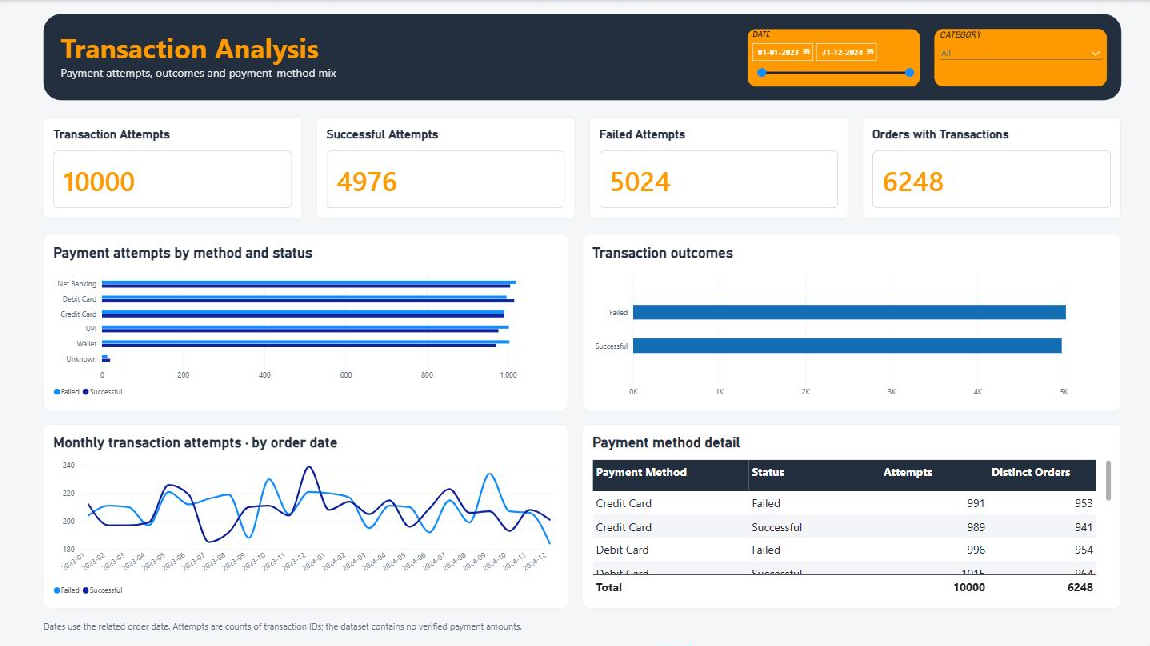

The page's visual inventory and layout, read from the dashboard file:
{"tool":"powerbi","page":{"name":"Transaction Analysis","canvas":[1920,1080],"ordinal":4},"visuals":[{"type":"textbox","box":[72,24,1800,144],"z":0},{"type":"cardVisual","title":"Failed Attempts","fields":{"Data":["CountNonNull(Fact_Transactions.Tr_ID)"]},"box":[984,196,432,170],"z":1000},{"type":"textbox","box":[72,1036,1800,32],"z":2000},{"type":"slicer","fields":{"Values":["Dim_Date.Date"]},"box":[1248,48,288,96],"z":3000},{"type":"cardVisual","title":"Successful Attempts","fields":{"Data":["CountNonNull(Fact_Transactions.Tr_ID)"]},"box":[528,196,432,170],"z":4000},{"type":"lineChart","title":"Monthly transaction attempts · by order date","fields":{"Category":["Dim_Date.Year-Month"],"Series":["Fact_Transactions.Tran_Status"],"Y":["CountNonNull(Fact_Transactions.Tr_ID)"]},"box":[72,708,876,308],"z":5000},{"type":"clusteredBarChart","title":"Transaction outcomes","fields":{"Category":["Fact_Transactions.Tran_Status"],"Y":["CountNonNull(Fact_Transactions.Tr_ID)"]},"box":[972,390,900,294],"z":6000},{"type":"tableEx","title":"Payment method detail","fields":{"Values":["Fact_Transactions.Transaction_Mode","Fact_Transactions.Tran_Status","CountNonNull(Fact_Transactions.Tr_ID)","Count(Fact_Transactions.Or_ID)"]},"box":[972,708,900,308],"z":7000},{"type":"slicer","fields":{"Values":["Dim_Product.Category"]},"box":[1560,48,288,96],"z":8000},{"type":"cardVisual","title":"Transaction Attempts","fields":{"Data":["CountNonNull(Fact_Transactions.Tr_ID)"]},"box":[72,196,432,170],"z":9000},{"type":"cardVisual","title":"Orders with Transactions","fields":{"Data":["Count(Fact_Transactions.Or_ID)"]},"box":[1440,196,432,170],"z":10000},{"type":"clusteredBarChart","title":"Payment attempts by method and status","fields":{"Category":["Fact_Transactions.Transaction_Mode"],"Series":["Fact_Transactions.Tran_Status"],"Y":["CountNonNull(Fact_Transactions.Tr_ID)"]},"box":[72,390,876,294],"z":11000}]}

Visuals, with their boxes in screenshot pixels (x1, y1, x2, y2), scaled from the page's 1920x1080 canvas onto the 1150x646 screenshot:
textbox: (left=43, top=14, right=1121, bottom=100)
"Failed Attempts" cardVisual: (left=589, top=117, right=848, bottom=219)
textbox: (left=43, top=620, right=1121, bottom=639)
slicer - Dim_Date.Date: (left=748, top=29, right=920, bottom=86)
"Successful Attempts" cardVisual: (left=316, top=117, right=575, bottom=219)
"Monthly transaction attempts · by order date" lineChart: (left=43, top=423, right=568, bottom=608)
"Transaction outcomes" clusteredBarChart: (left=582, top=233, right=1121, bottom=409)
"Payment method detail" tableEx: (left=582, top=423, right=1121, bottom=608)
slicer - Dim_Product.Category: (left=934, top=29, right=1107, bottom=86)
"Transaction Attempts" cardVisual: (left=43, top=117, right=302, bottom=219)
"Orders with Transactions" cardVisual: (left=862, top=117, right=1121, bottom=219)
"Payment attempts by method and status" clusteredBarChart: (left=43, top=233, right=568, bottom=409)
